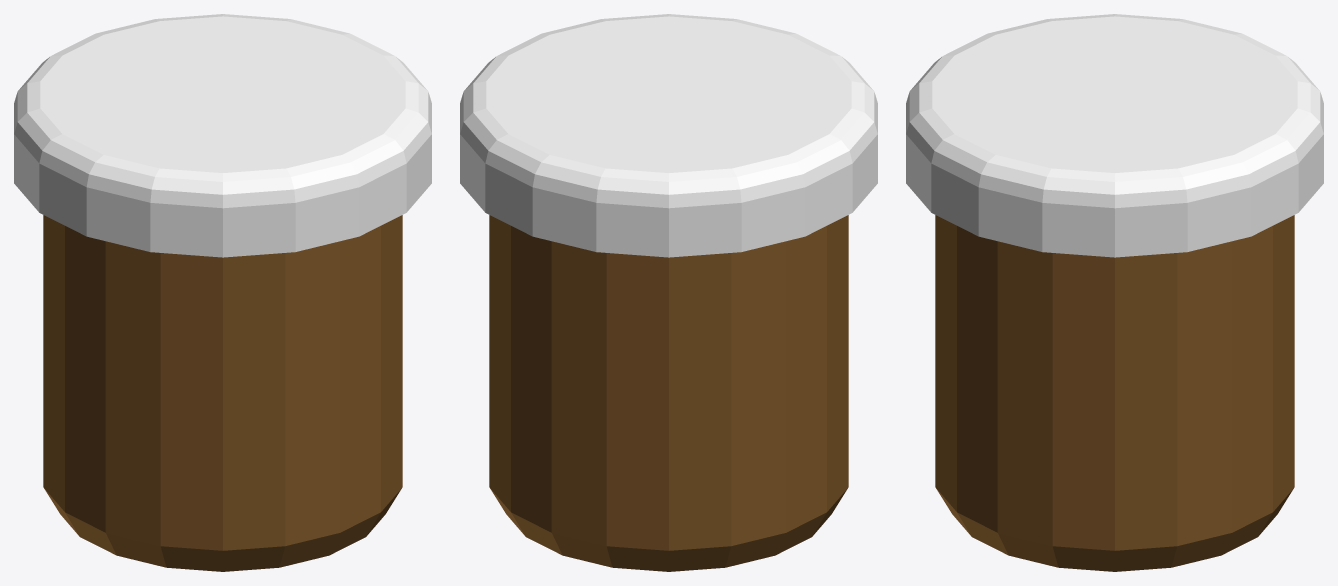
The model's file is Pot_2.fbx.
3 renders of one model, left to right at view 1: azimuth 30°, elevation 25°; view 2: azimuth 150°, elevation 25°; view 3: azimuth 270°, elevation 25°, orthographic.
Visible parts, largest first — view 1: Pot_2; view 2: Pot_2; view 3: Pot_2.
Boxes of the visible parts, x1,y1,x2,y2 form: Pot_2: (14, 14, 431, 571); Pot_2: (460, 14, 877, 571); Pot_2: (906, 14, 1323, 571).
Bounding box in the file's own units: 0.1139 × 0.1207 × 0.1122.
